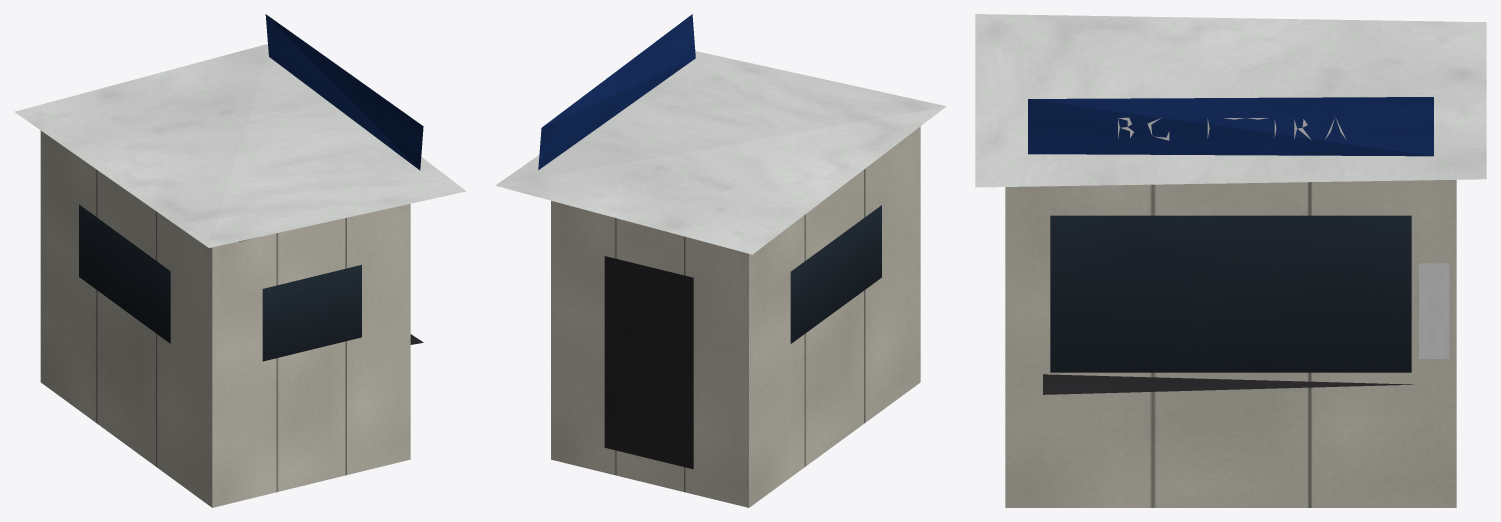
Rendered from SM_Morin_Biglietteria_LOD2.fbx.
3 renders of one model, left to right at view 1: azimuth 30°, elevation 25°; view 2: azimuth 150°, elevation 25°; view 3: azimuth 270°, elevation 25°, orthographic. The views are drawn at different scales.
Parts seen in each view (by area): view 1: SM_Morin_Biglietteria_LOD2; view 2: SM_Morin_Biglietteria_LOD2; view 3: SM_Morin_Biglietteria_LOD2.
Part boxes in pixels (x1,y1,x2,y2): SM_Morin_Biglietteria_LOD2: (14,14,466,507); SM_Morin_Biglietteria_LOD2: (495,14,946,507); SM_Morin_Biglietteria_LOD2: (975,14,1486,507).
Bounding box in the file's own units: 260 × 340 × 310.
Materials: 1 (1 with a texture image).
